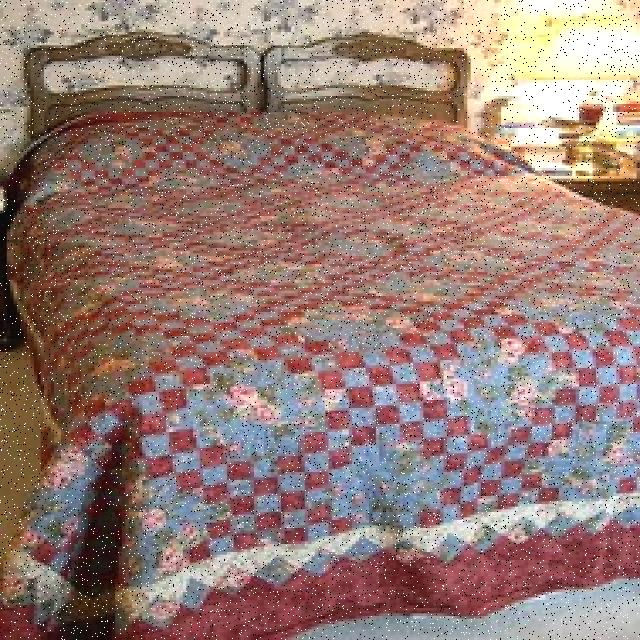bed: (4, 21, 637, 596)
